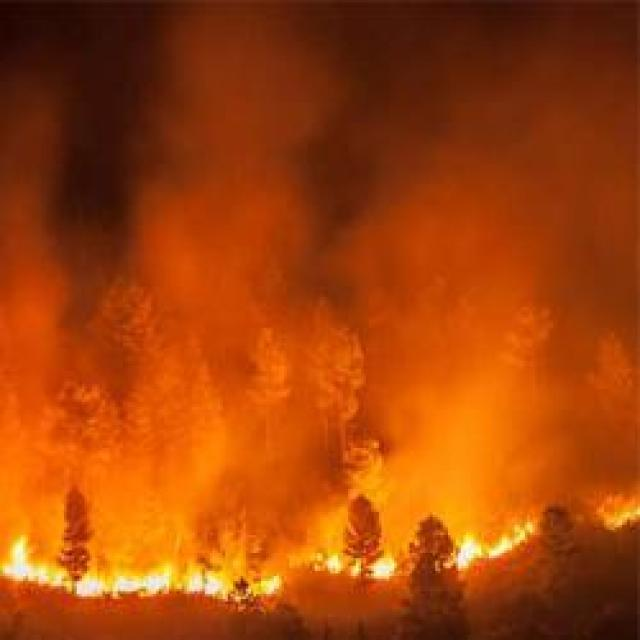Fire: (0, 481, 640, 608)
Smoke: (0, 7, 640, 573)
